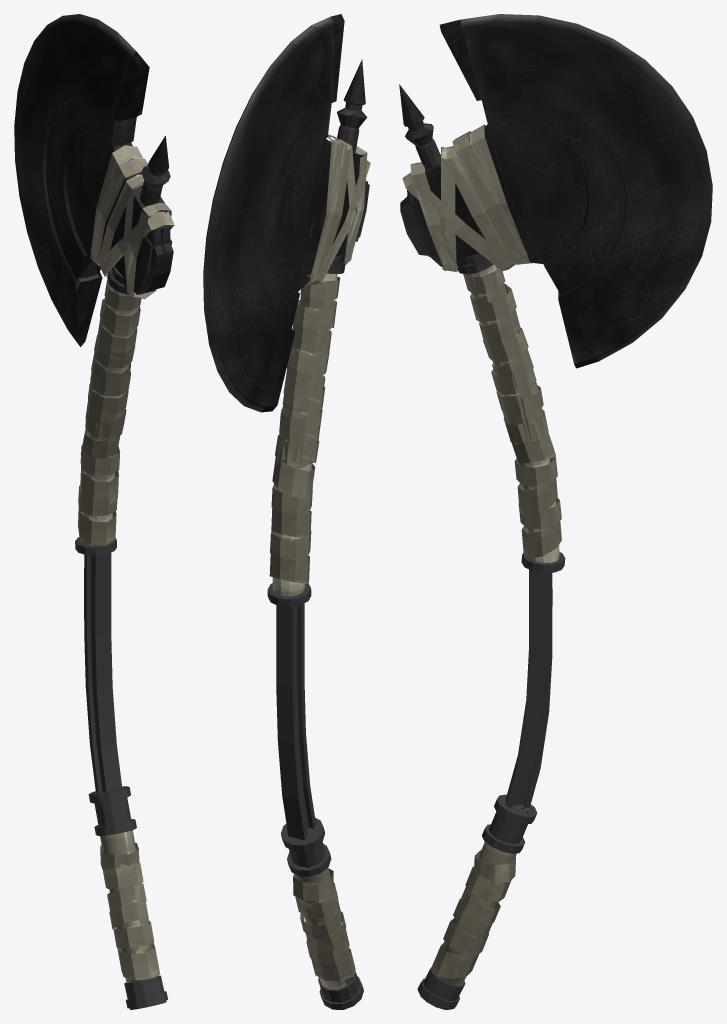
File: hunter_axe_extended.obj
3 renders of one model, left to right at view 1: azimuth 30°, elevation 25°; view 2: azimuth 150°, elevation 25°; view 3: azimuth 270°, elevation 25°, orthographic. The views are drawn at different scales.
Parts seen in each view (by area): view 1: Circle, part_handle_2_bandages.008, part_handle_2_steel_Cube.013, part_handle_2_bandages, part_handle_2_steel_Cube.002, part_handle_2_steel_Cube.001; view 2: Circle, part_handle_2_bandages.008, part_handle_2_steel_Cube.013, part_handle_2_bandages, part_handle_2_steel_Cube.002, part_handle_2_steel_Cube.001; view 3: Circle, part_handle_2_bandages.008, part_handle_2_steel_Cube.013, part_handle_2_bandages, part_handle_2_steel_Cube.002.
Boxes of the visible parts, box(x1,y1,x2,y2) form: Circle: box(14, 14, 173, 346); part_handle_2_bandages.008: box(78, 145, 174, 545); part_handle_2_steel_Cube.013: box(84, 545, 167, 1009); part_handle_2_bandages: box(100, 830, 160, 982); part_handle_2_steel_Cube.002: box(107, 136, 170, 294); part_handle_2_steel_Cube.001: box(75, 537, 116, 555); Circle: box(203, 14, 369, 412); part_handle_2_bandages.008: box(269, 134, 370, 596); part_handle_2_steel_Cube.013: box(276, 603, 363, 1009); part_handle_2_bandages: box(293, 865, 355, 989); part_handle_2_steel_Cube.002: box(327, 59, 367, 273); part_handle_2_steel_Cube.001: box(267, 583, 311, 606); Circle: box(400, 14, 712, 368); part_handle_2_bandages.008: box(402, 124, 561, 563); part_handle_2_steel_Cube.013: box(417, 558, 552, 1009); part_handle_2_bandages: box(431, 840, 521, 985); part_handle_2_steel_Cube.002: box(399, 84, 493, 274).
Bounding box in the file's own units: 0.2338 × 5.7 × 1.63.
